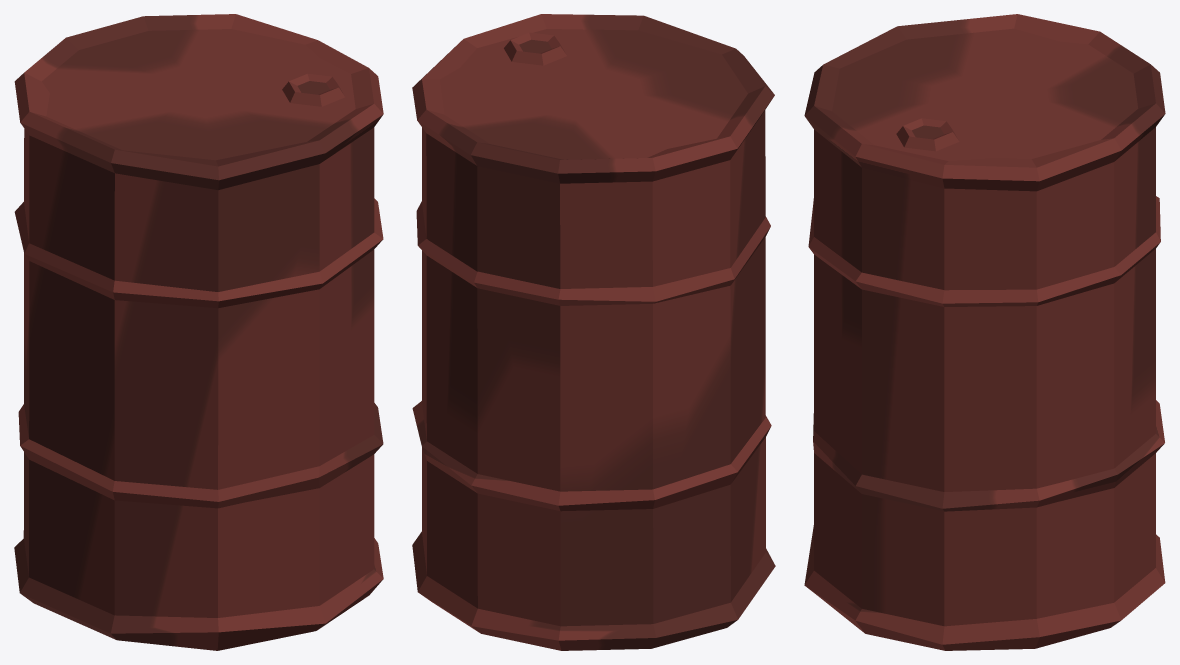
Rendered from SM_Prop_Barrel_02.fbx.
3 views of the same model, side by side, from view 1: azimuth 30°, elevation 25°; view 2: azimuth 150°, elevation 25°; view 3: azimuth 270°, elevation 25° (orthographic).
Visible parts, largest first — view 1: SM_Prop_Barrel_02; view 2: SM_Prop_Barrel_02; view 3: SM_Prop_Barrel_02.
Boxes of the visible parts, x1,y1,x2,y2 form: SM_Prop_Barrel_02: [14, 14, 383, 650]; SM_Prop_Barrel_02: [412, 14, 775, 650]; SM_Prop_Barrel_02: [804, 14, 1165, 650].
Size of the model in its own units: 71.11 by 105 by 69.63.
